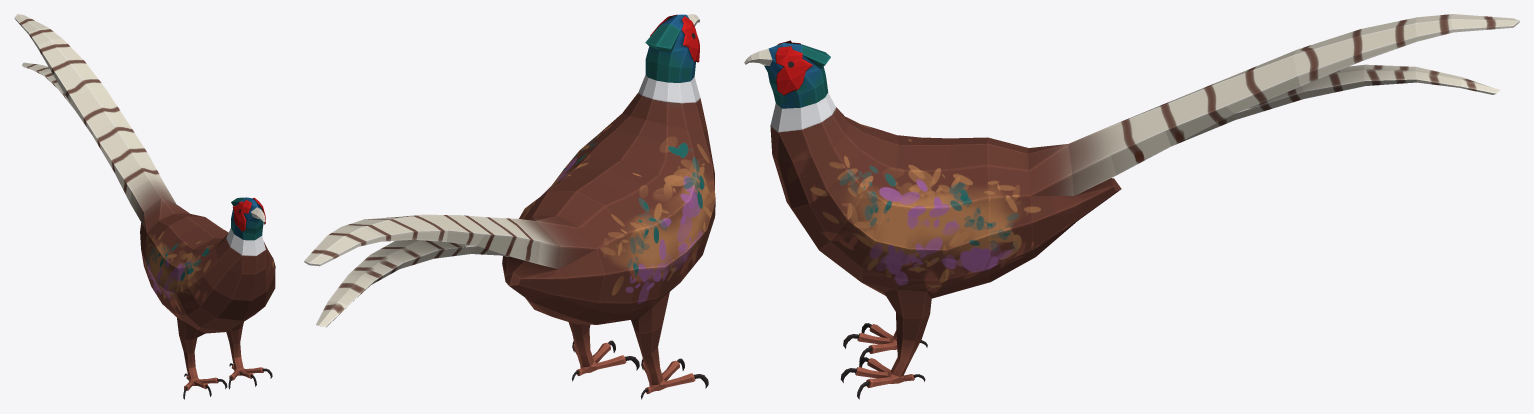
The picture shows the model from 3 angles, left to right: view 1: azimuth 30°, elevation 25°; view 2: azimuth 150°, elevation 25°; view 3: azimuth 270°, elevation 25°; orthographic projection. The views are drawn at different scales.
Visible parts, largest first — view 1: PheasantsRingNecked_mesh; view 2: PheasantsRingNecked_mesh; view 3: PheasantsRingNecked_mesh.
Part boxes in pixels (<box>): PheasantsRingNecked_mesh: <box>14,14,275,399</box>; PheasantsRingNecked_mesh: <box>304,14,715,399</box>; PheasantsRingNecked_mesh: <box>744,14,1519,399</box>.
Bounding box in the file's own units: 5.35 × 12.19 × 24.46.
Materials: 1 (1 with a texture image).
